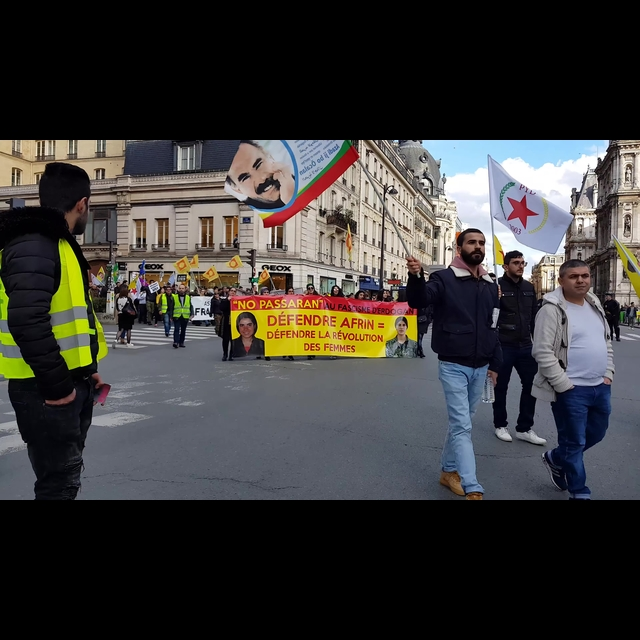PYD: (497, 171, 554, 241)
